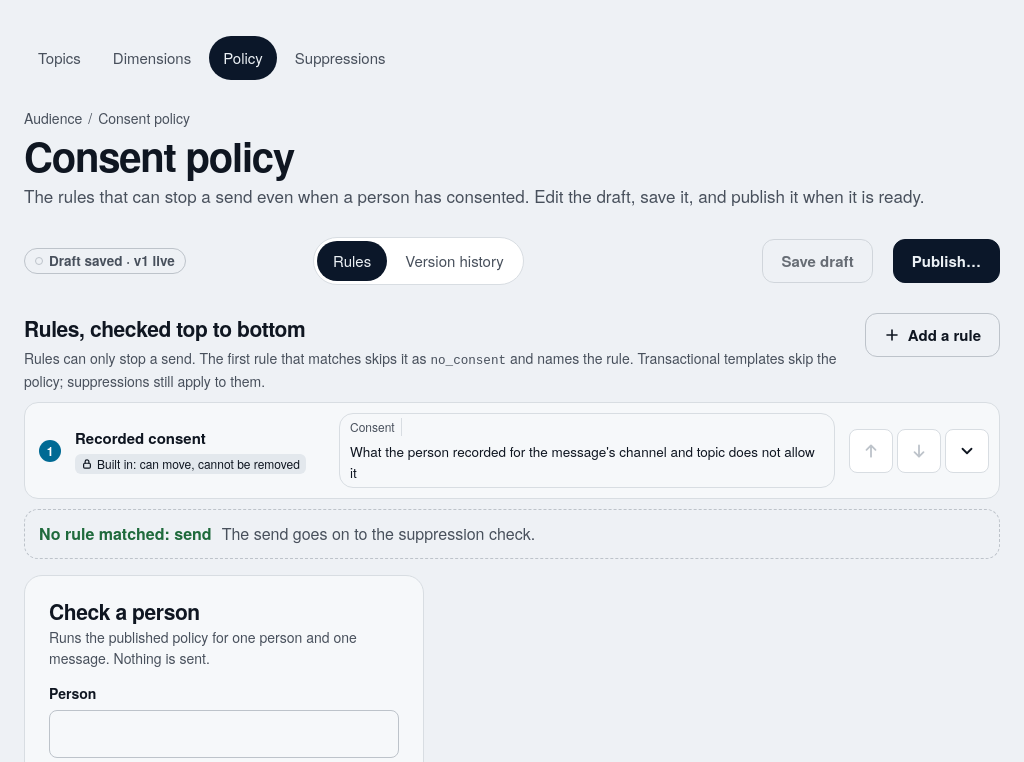
Test: consent policy builder › publishes the saved revision for an admin and tells a stale draft apart
Check: the text "Draft saved · v1 live" is shown, box [24,248,186,274]
Step 1. Click the button "Publish…" → (946,261), box [893,239,1000,283]
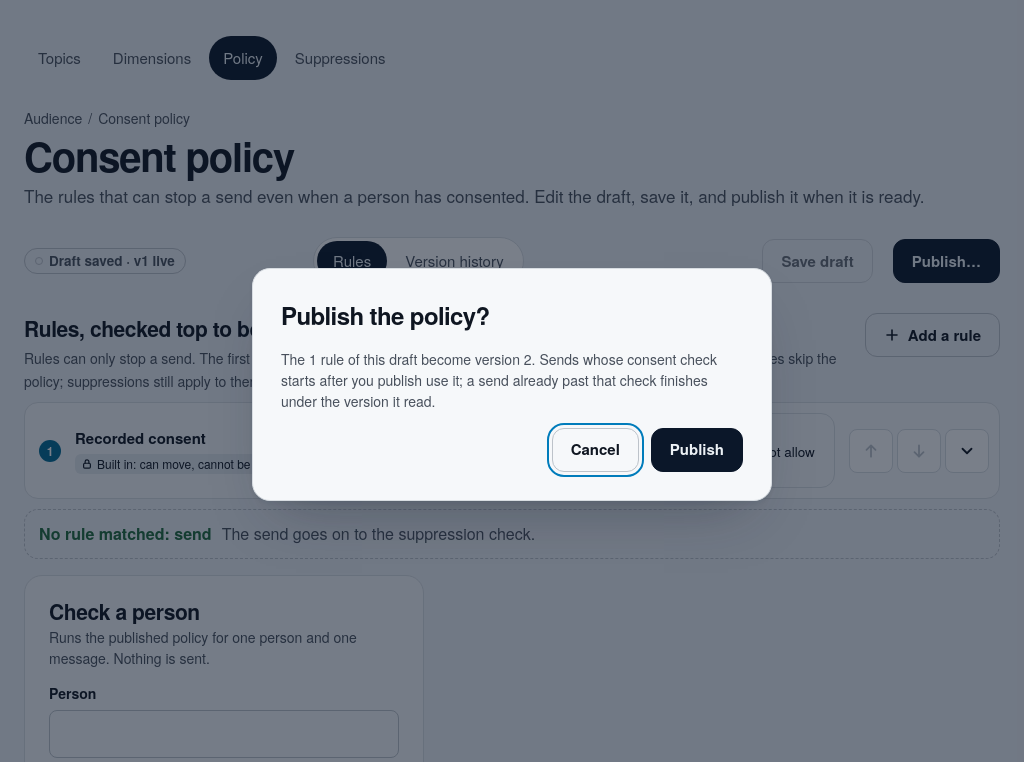
Step 2. Click the button "Publish" → (697,450), box [651,428,743,472]
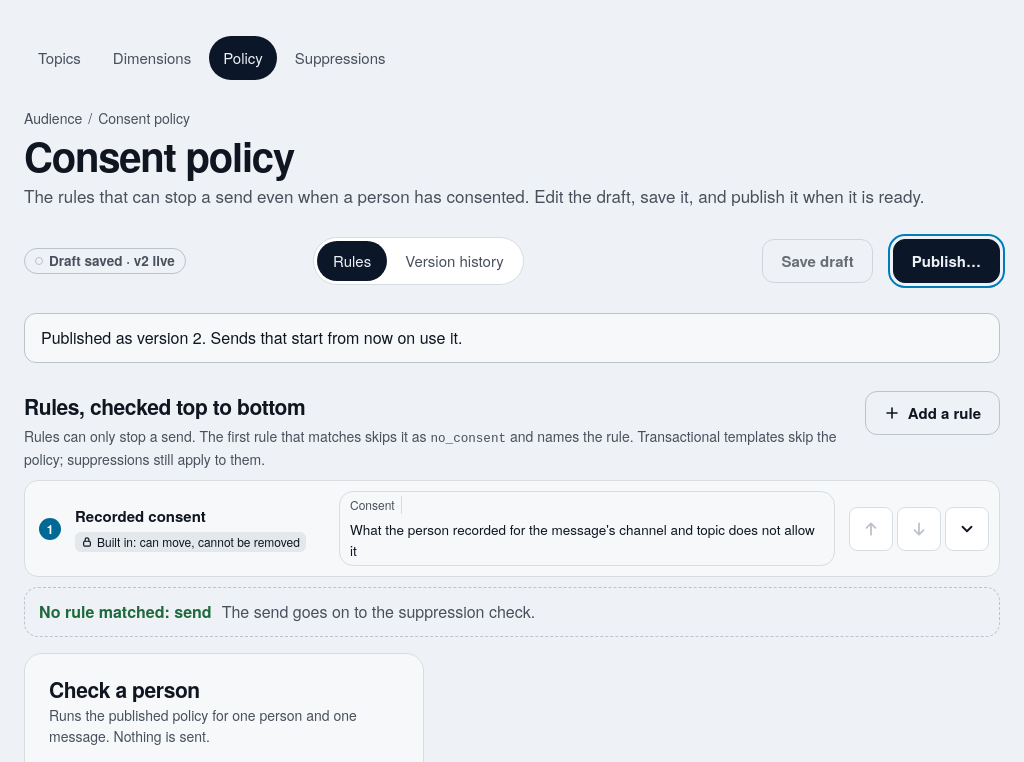
Check: the text "Published as version 2. Sends that start from now on use it." is shown, box [24,313,1000,363]
Check: the text "Draft saved · v2 live" is shown, box [24,248,186,274]
